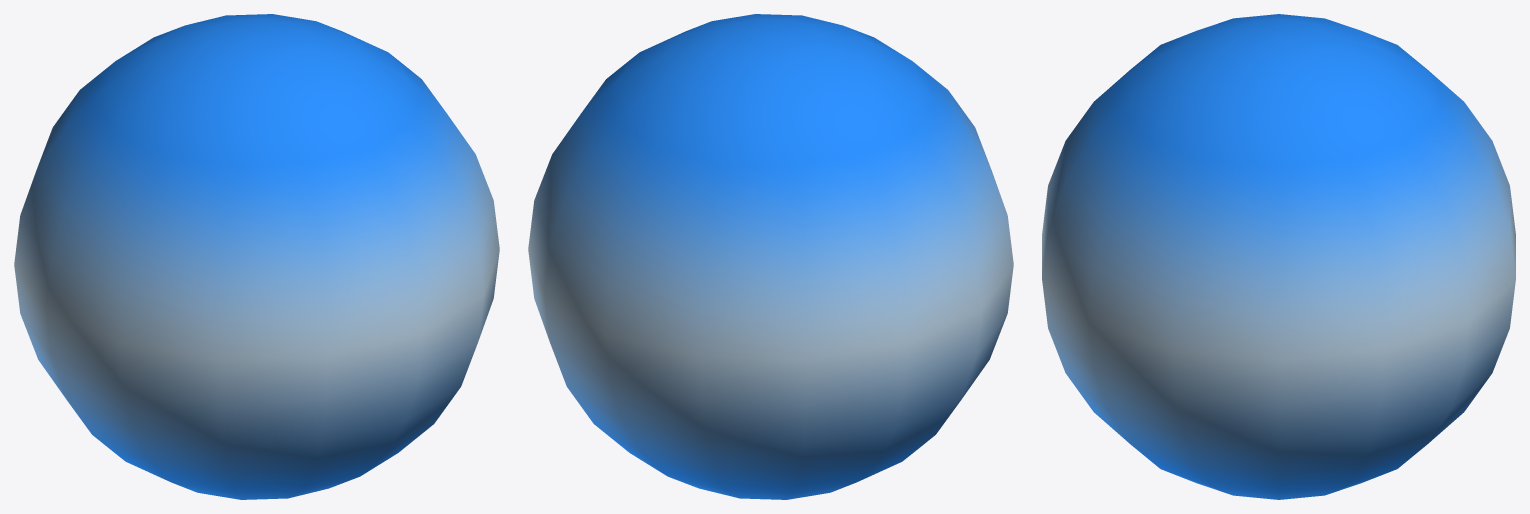
File: Environment.fbx
3 views of the same model, side by side, from view 1: azimuth 30°, elevation 25°; view 2: azimuth 150°, elevation 25°; view 3: azimuth 270°, elevation 25° (orthographic).
Parts seen in each view (by area): view 1: sphere; view 2: sphere; view 3: sphere.
Part boxes in pixels (x1,y1,x2,y2): sphere: (14,14,499,499); sphere: (528,14,1013,499); sphere: (1042,14,1515,499).
Bounding box in the file's own units: 2848 × 2848 × 2776.
Materials: 8 (8 with a texture image).
